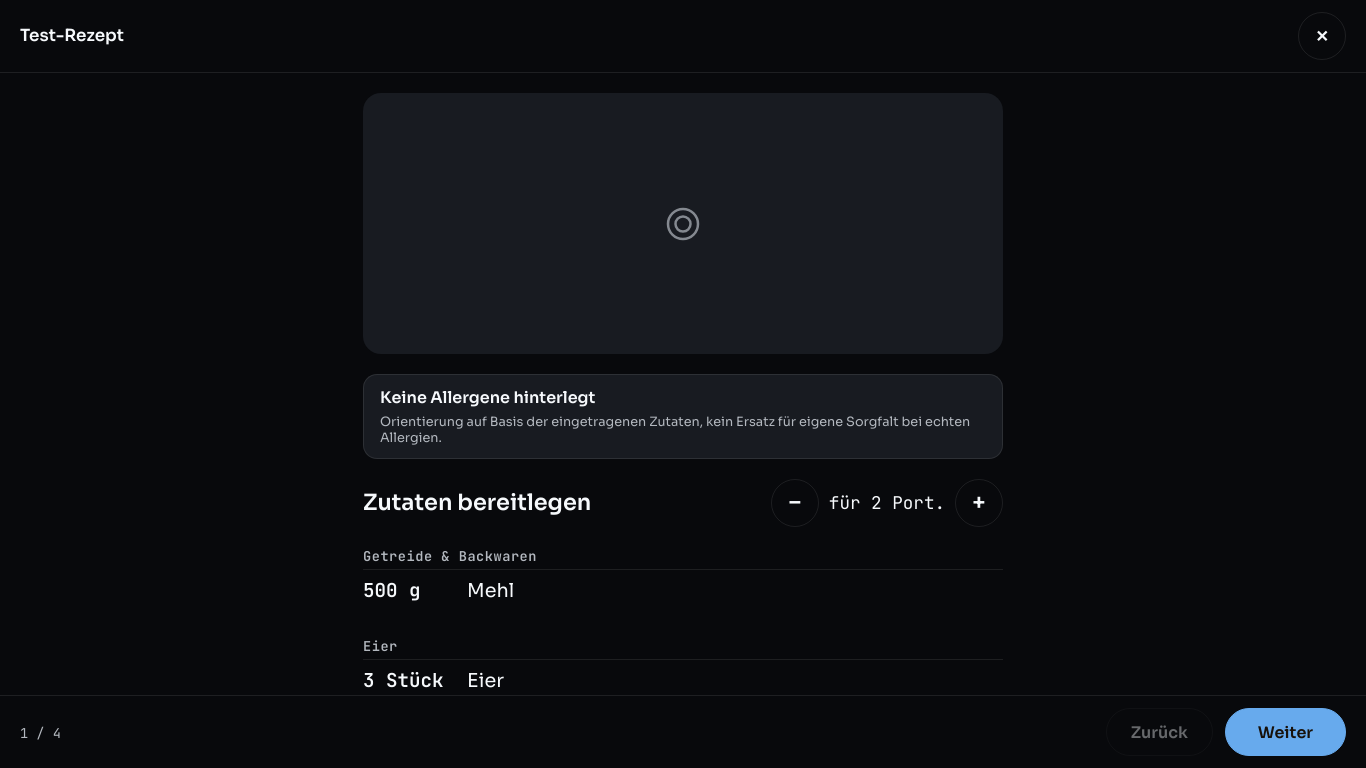
CookingDialog — Seiten-Navigation › Zurück/Weiter-Buttons navigieren
This screenshot has width=1366, height=768.
Expected: the text "1 / 4" is shown, [20,724,61,742]
Click the button "Weiter": (1285, 732) [1225,708,1346,756]
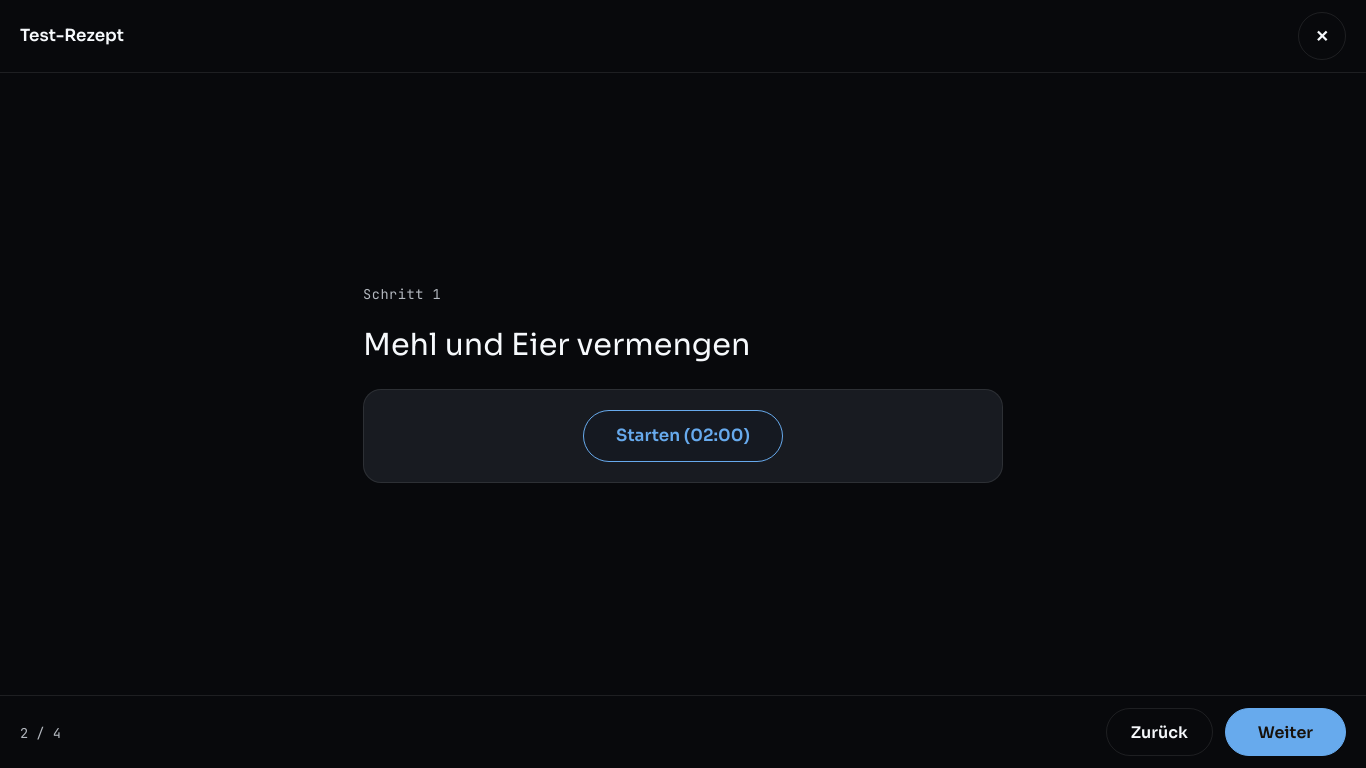
Result: the text "2 / 4" is shown at [20,724,61,742]
Click the button "Zurück": (1159, 732) [1106,708,1213,756]
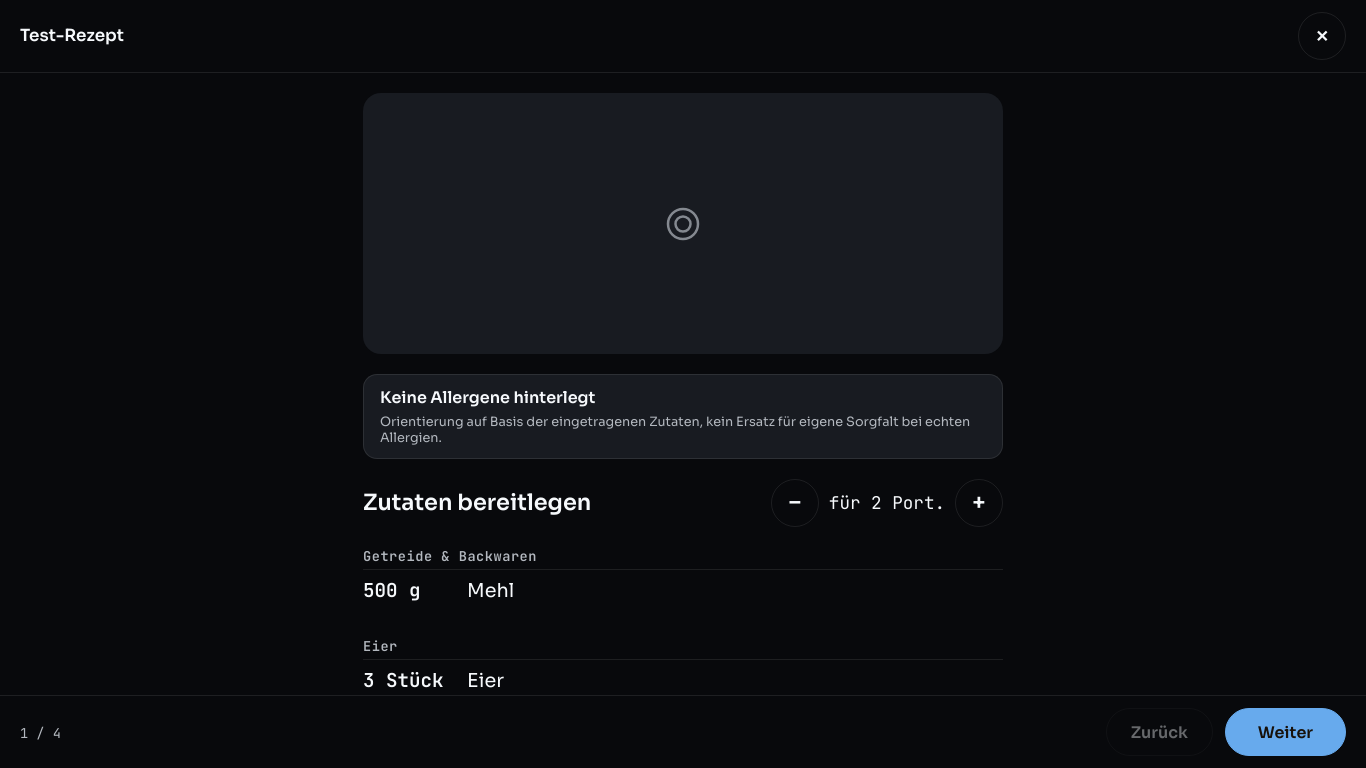
Result: the text "1 / 4" is shown at [20,724,61,742]
